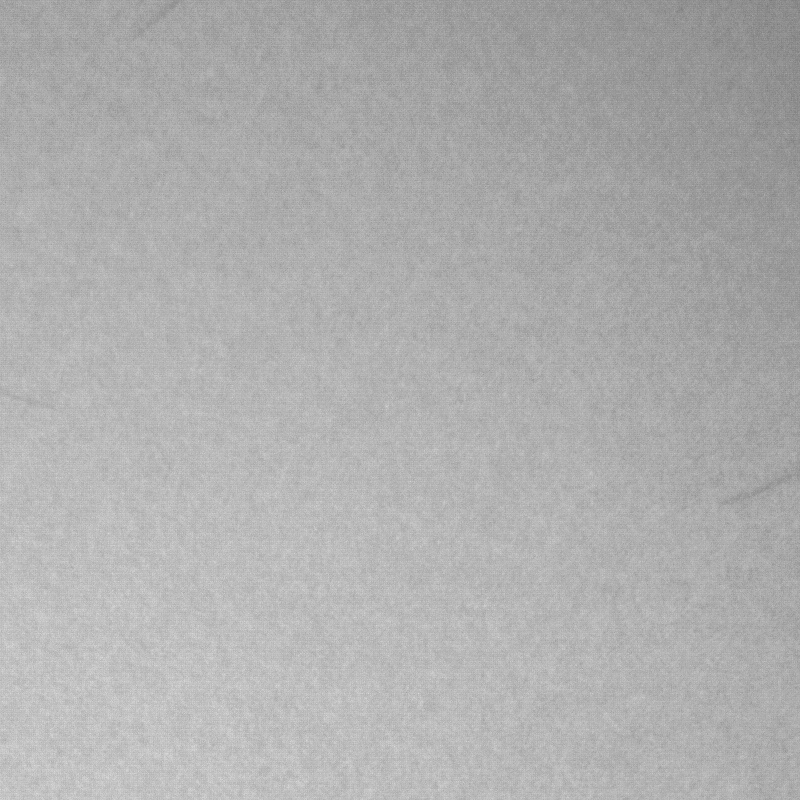defect: (726, 464, 800, 503), (126, 2, 175, 41), (3, 391, 57, 414)
